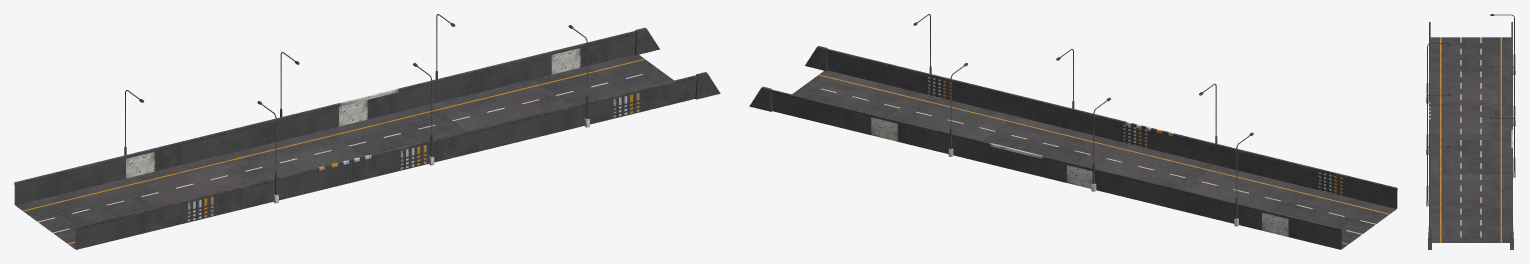
File: road.fbx
3 views of the same model, side by side, from view 1: azimuth 30°, elevation 25°; view 2: azimuth 150°, elevation 25°; view 3: azimuth 270°, elevation 25° (orthographic). The views are drawn at different scales.
Parts seen in each view (by area): view 1: 道路14; view 2: 道路14; view 3: 道路14.
Boxes of the visible parts, x1,y1,x2,y2 form: 道路14: (14,14,720,249); 道路14: (749,14,1397,249); 道路14: (1426,14,1515,249).
Bounding box in the file's own units: 2932 × 387 × 522.
